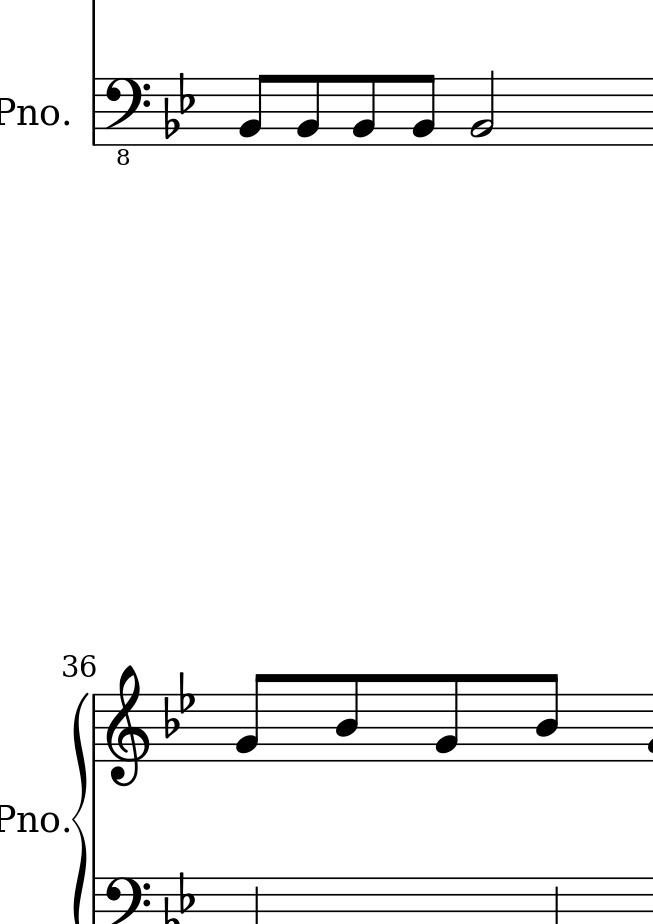2_2: (469, 68, 497, 146)
3: (61, 653, 78, 678)
6: (79, 652, 97, 678)
8_2: (235, 673, 267, 759), (433, 673, 461, 761), (238, 72, 271, 146), (350, 72, 377, 147), (410, 72, 437, 147), (295, 72, 321, 147)
8_4: (334, 673, 360, 764), (535, 672, 560, 765)
B_F: (163, 71, 196, 137)
Brace: (71, 692, 91, 924)
E_F: (161, 671, 196, 737)
Gclef: (105, 665, 148, 787)
Lower_Fclef: (103, 76, 150, 164)
Pno: (1, 96, 60, 131), (1, 805, 60, 837)
Single_barline: (88, 694, 102, 762), (87, 79, 101, 144), (89, 878, 101, 924)
